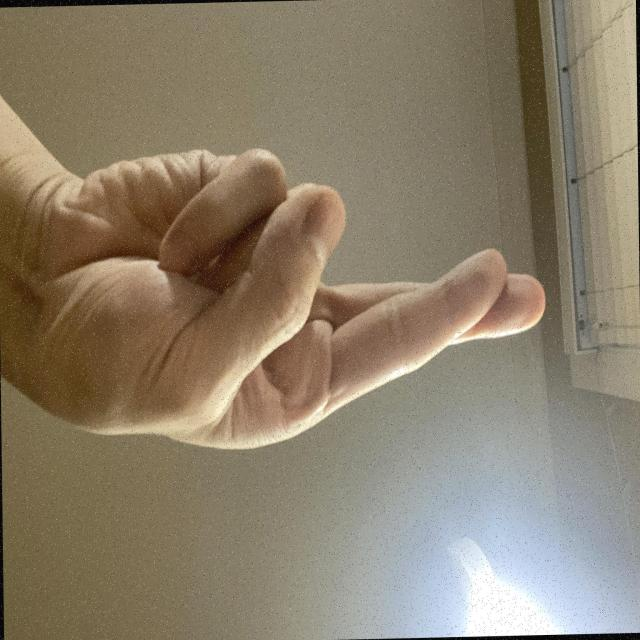R: (260, 113, 509, 640)
